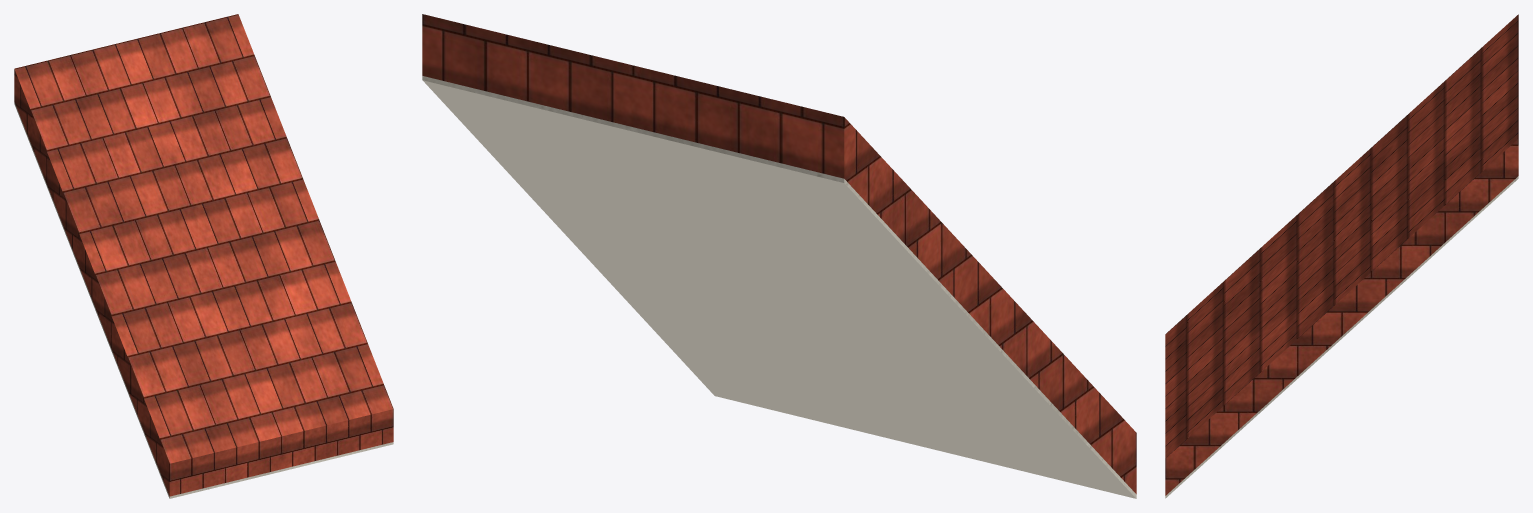
File: garage_roof.glb
3 views of the same model, side by side, from view 1: azimuth 30°, elevation 25°; view 2: azimuth 150°, elevation 25°; view 3: azimuth 270°, elevation 25° (orthographic). The views are drawn at different scales.
Visible parts, largest first — view 1: garage_roof_roof_tiles, garage_roof_plaster; view 2: garage_roof_plaster, garage_roof_roof_tiles; view 3: garage_roof_roof_tiles, garage_roof_plaster.
Boxes of the visible parts, x1,y1,x2,y2 form: garage_roof_roof_tiles: (14,14,393,496); garage_roof_plaster: (14,102,393,498); garage_roof_plaster: (422,76,1136,498); garage_roof_roof_tiles: (422,14,1136,494); garage_roof_roof_tiles: (1165,14,1518,495); garage_roof_plaster: (1165,176,1518,498).
Bounding box in the file's own units: 2 × 2.7 × 2.4.
2 materials, 2 textured.
